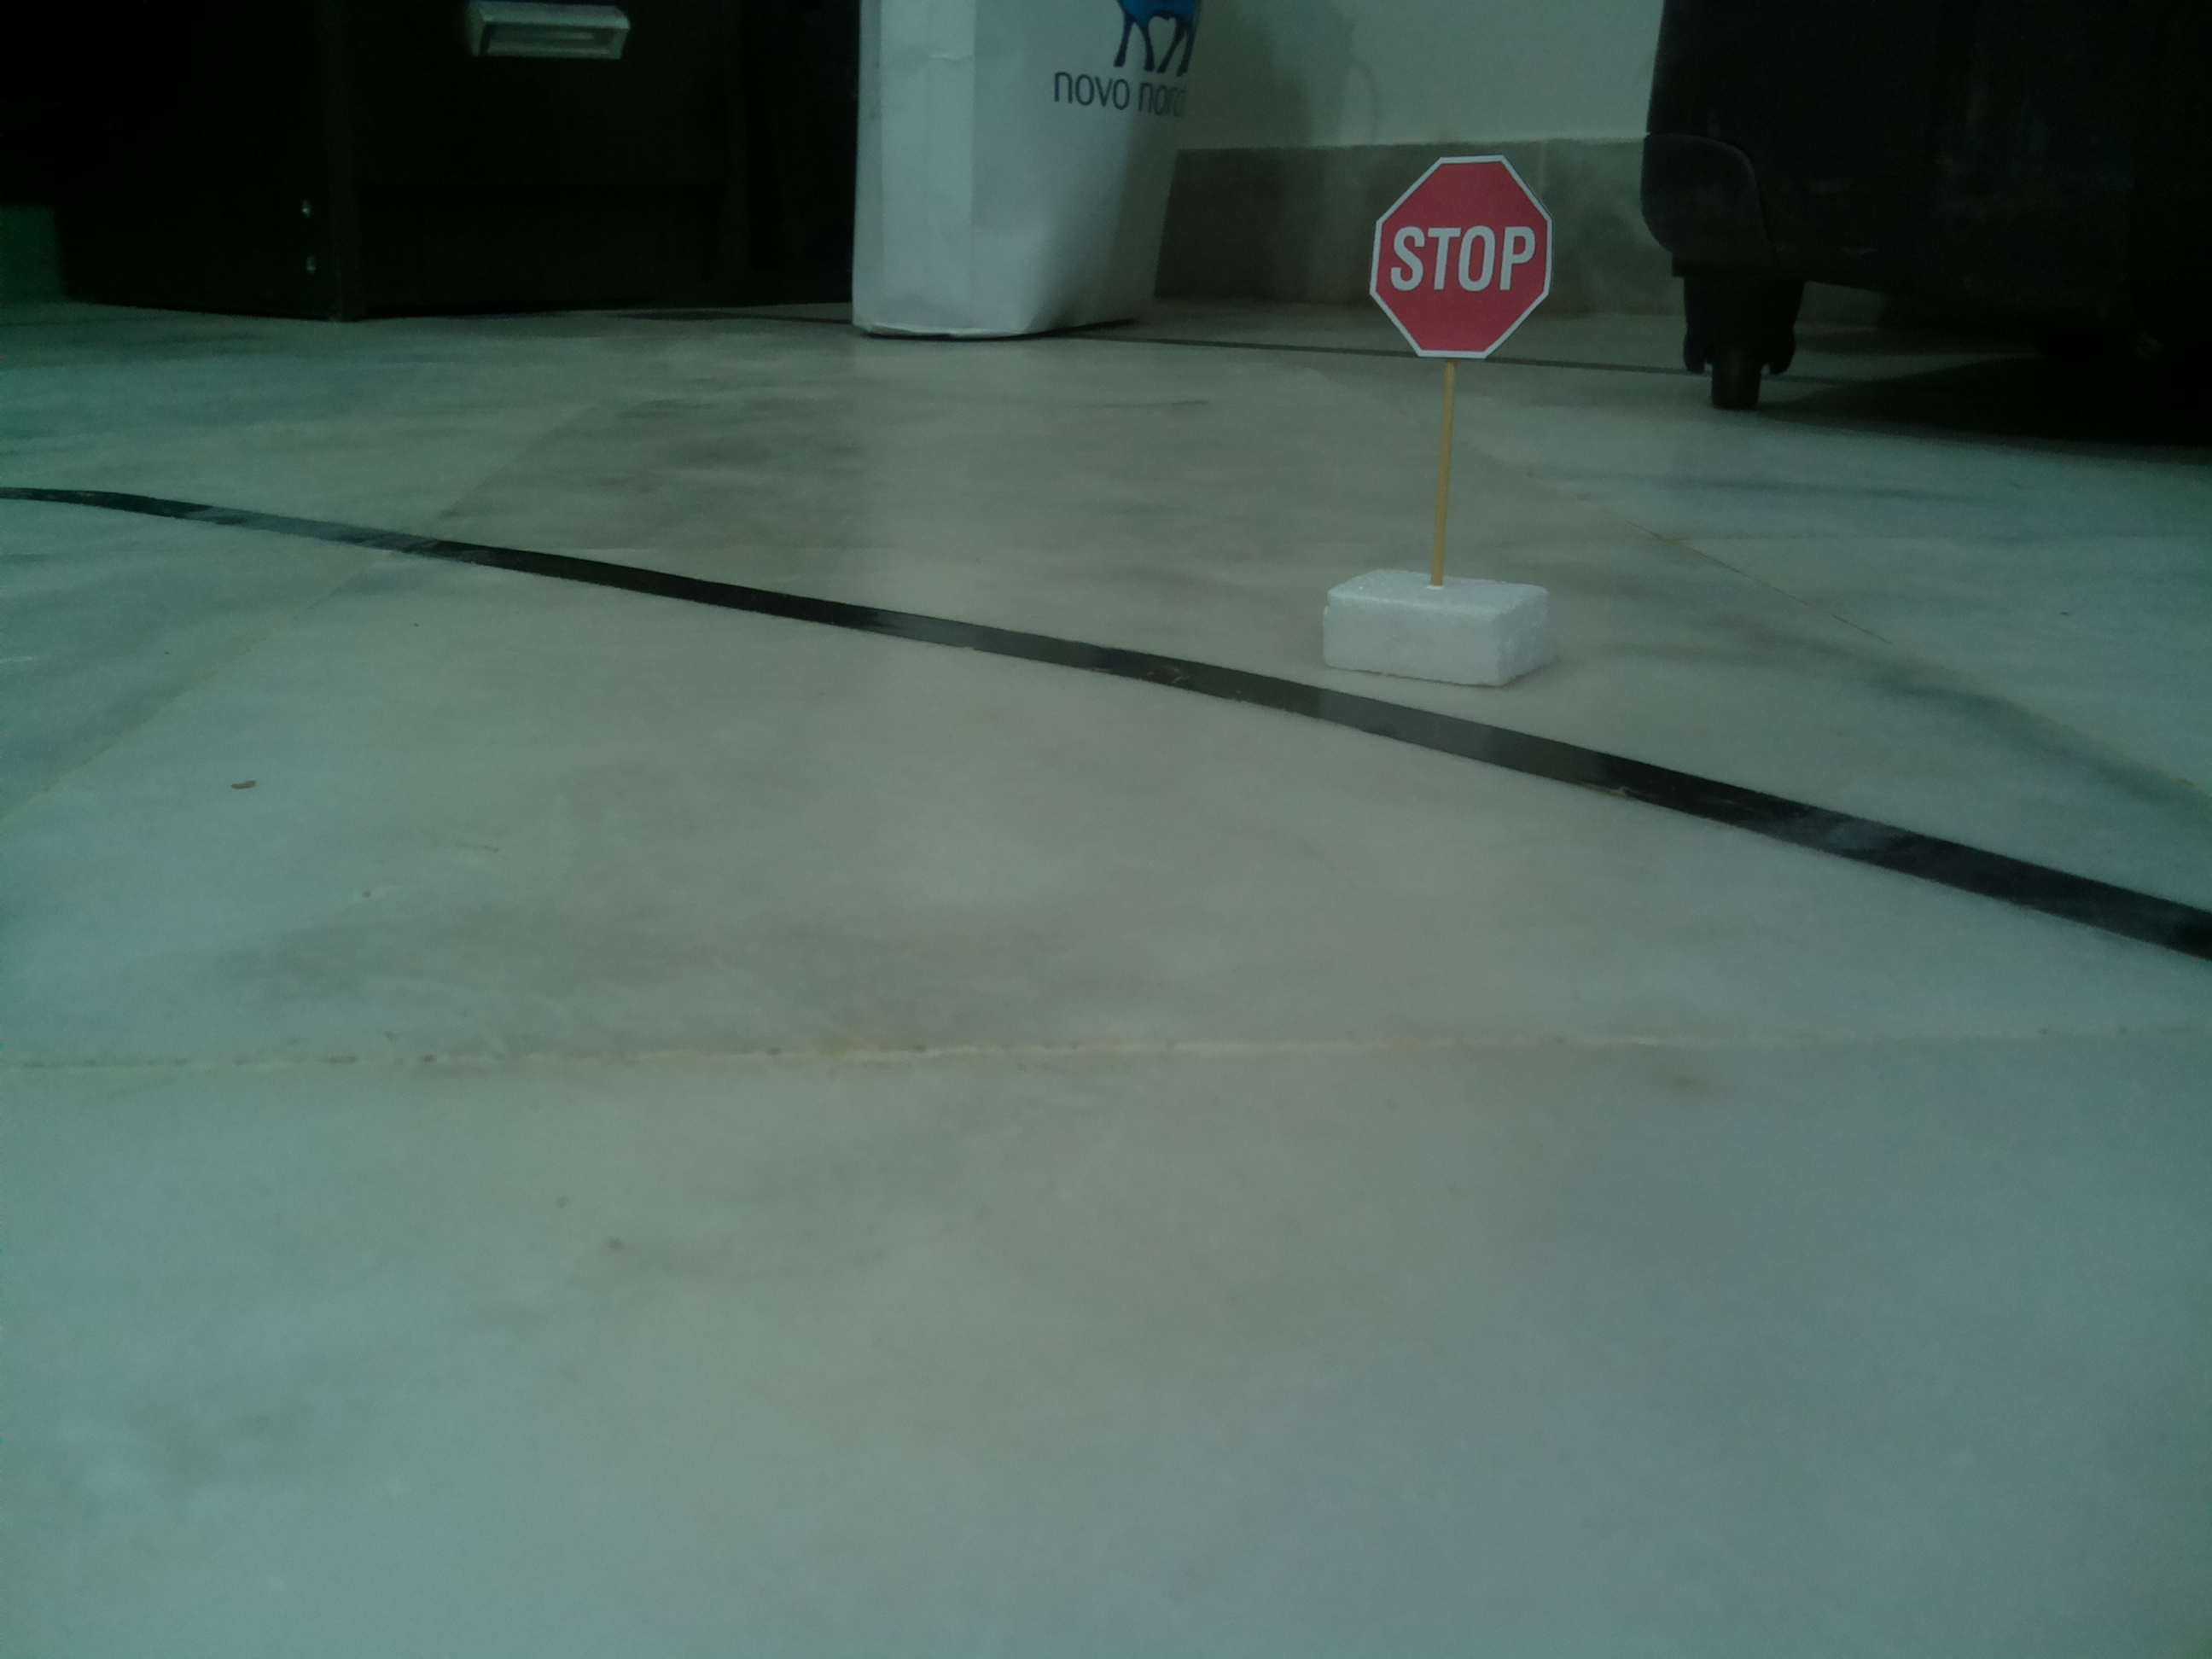Stop sign: (1360, 157, 1561, 366)
